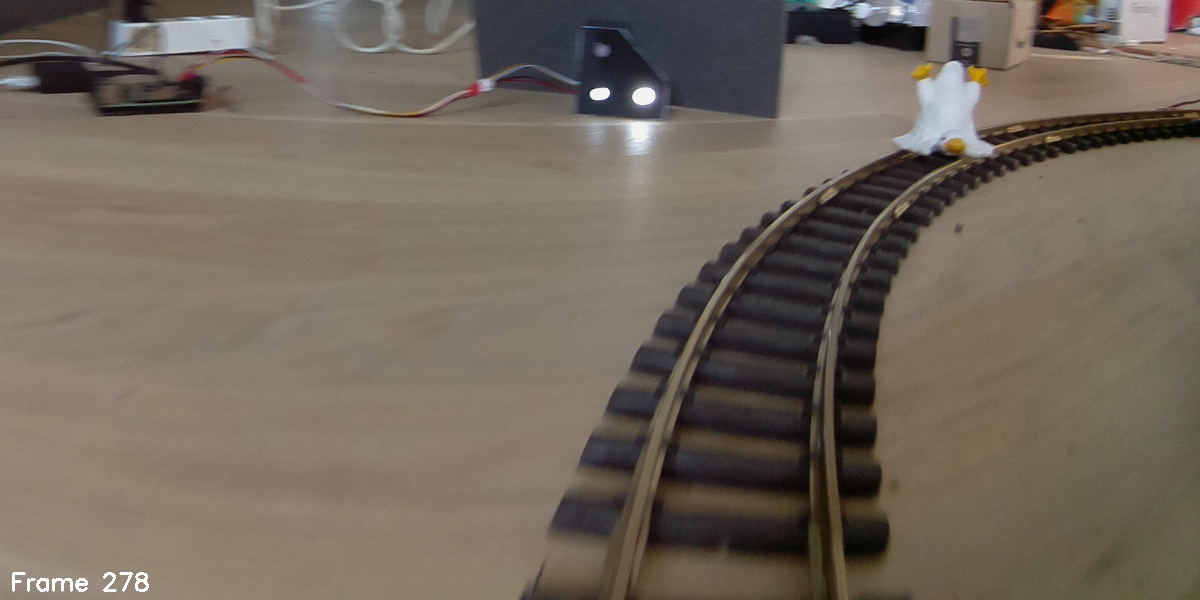Halt: (574, 25, 670, 119)
